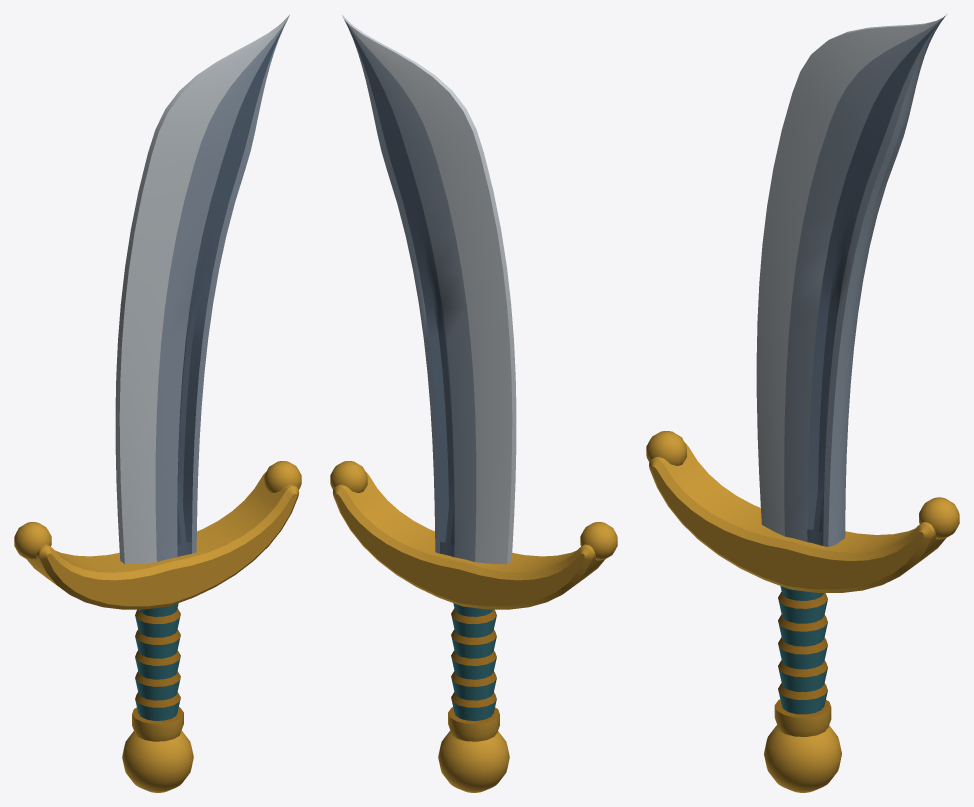
The model's file is Scimitar_14.glb.
3 renders of one model, left to right at view 1: azimuth 30°, elevation 25°; view 2: azimuth 150°, elevation 25°; view 3: azimuth 330°, elevation 25°, orthographic. The views are drawn at different scales.
Parts seen in each view (by area): view 1: Scimitar_14; view 2: Scimitar_14; view 3: Scimitar_14.
Boxes of the visible parts, box(x1,y1,x2,y2) form: Scimitar_14: box(14, 15, 301, 792); Scimitar_14: box(330, 15, 617, 792); Scimitar_14: box(646, 14, 959, 792).
Size of the model in its own units: 2.54 by 6.38 by 0.558.
